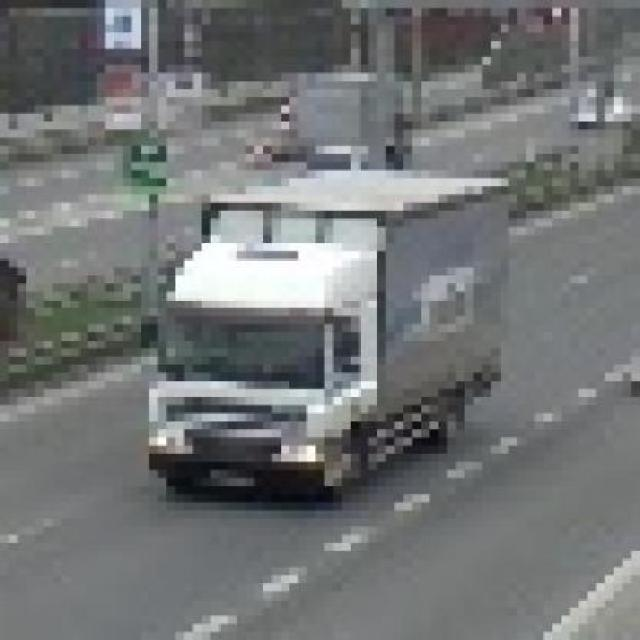truck: (133, 163, 493, 496)
